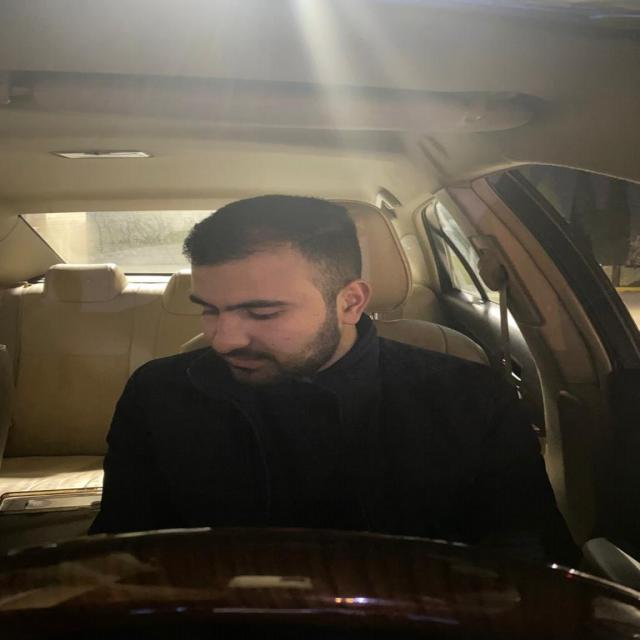drowsy: (180, 180, 381, 398)
